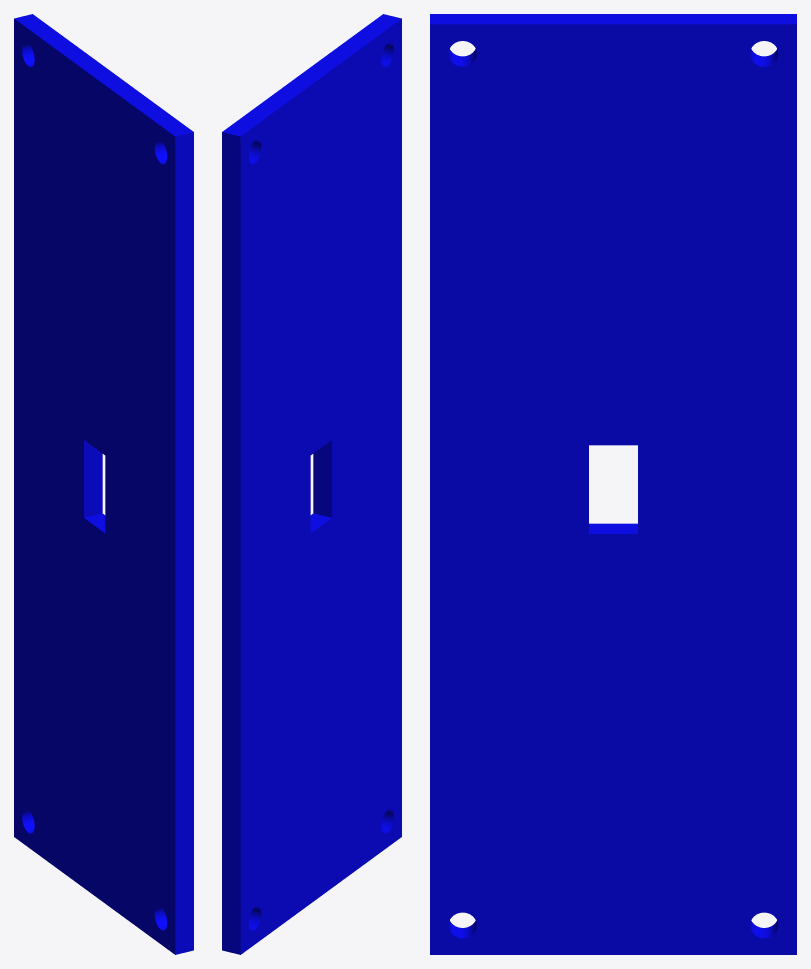
Rendered from cote_int_1.dae.
The picture shows the model from 3 angles, left to right: view 1: azimuth 30°, elevation 25°; view 2: azimuth 150°, elevation 25°; view 3: azimuth 270°, elevation 25°; orthographic projection. The views are drawn at different scales.
Parts seen in each view (by area): view 1: node0; view 2: node0; view 3: node0.
Part boxes in pixels (x1,y1,x2,y2): node0: [14, 14, 193, 954]; node0: [222, 14, 401, 954]; node0: [430, 14, 796, 954].
Size of the model in its own units: 0.003 by 0.126 by 0.045.
